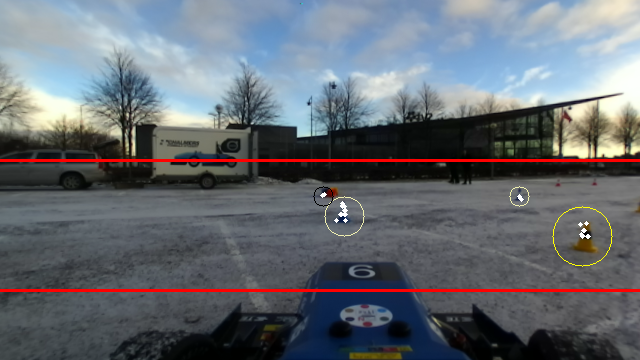blue: (333, 200, 350, 224), (512, 186, 525, 202)
yellow: (568, 217, 599, 254)
